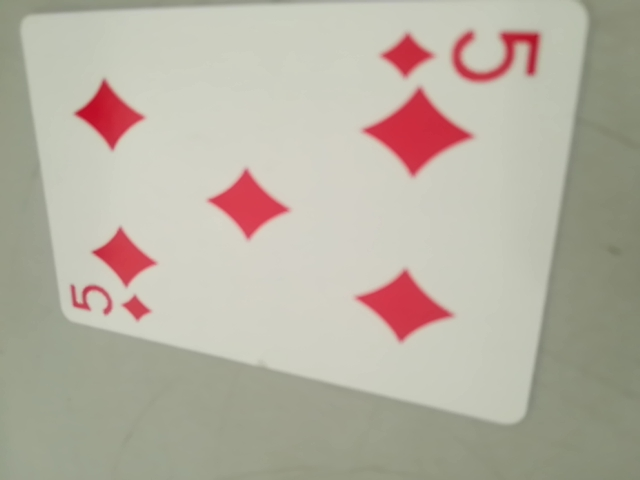fk 5: (375, 18, 546, 90), (64, 277, 153, 330)
